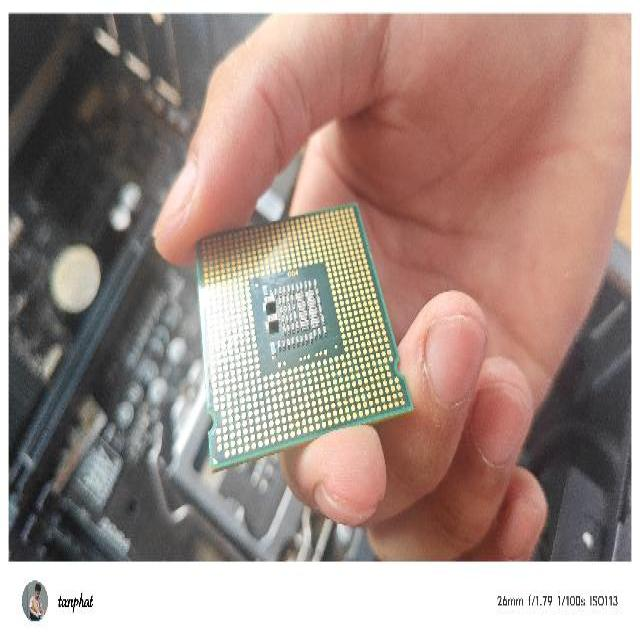CPU: (186, 203, 417, 478)
